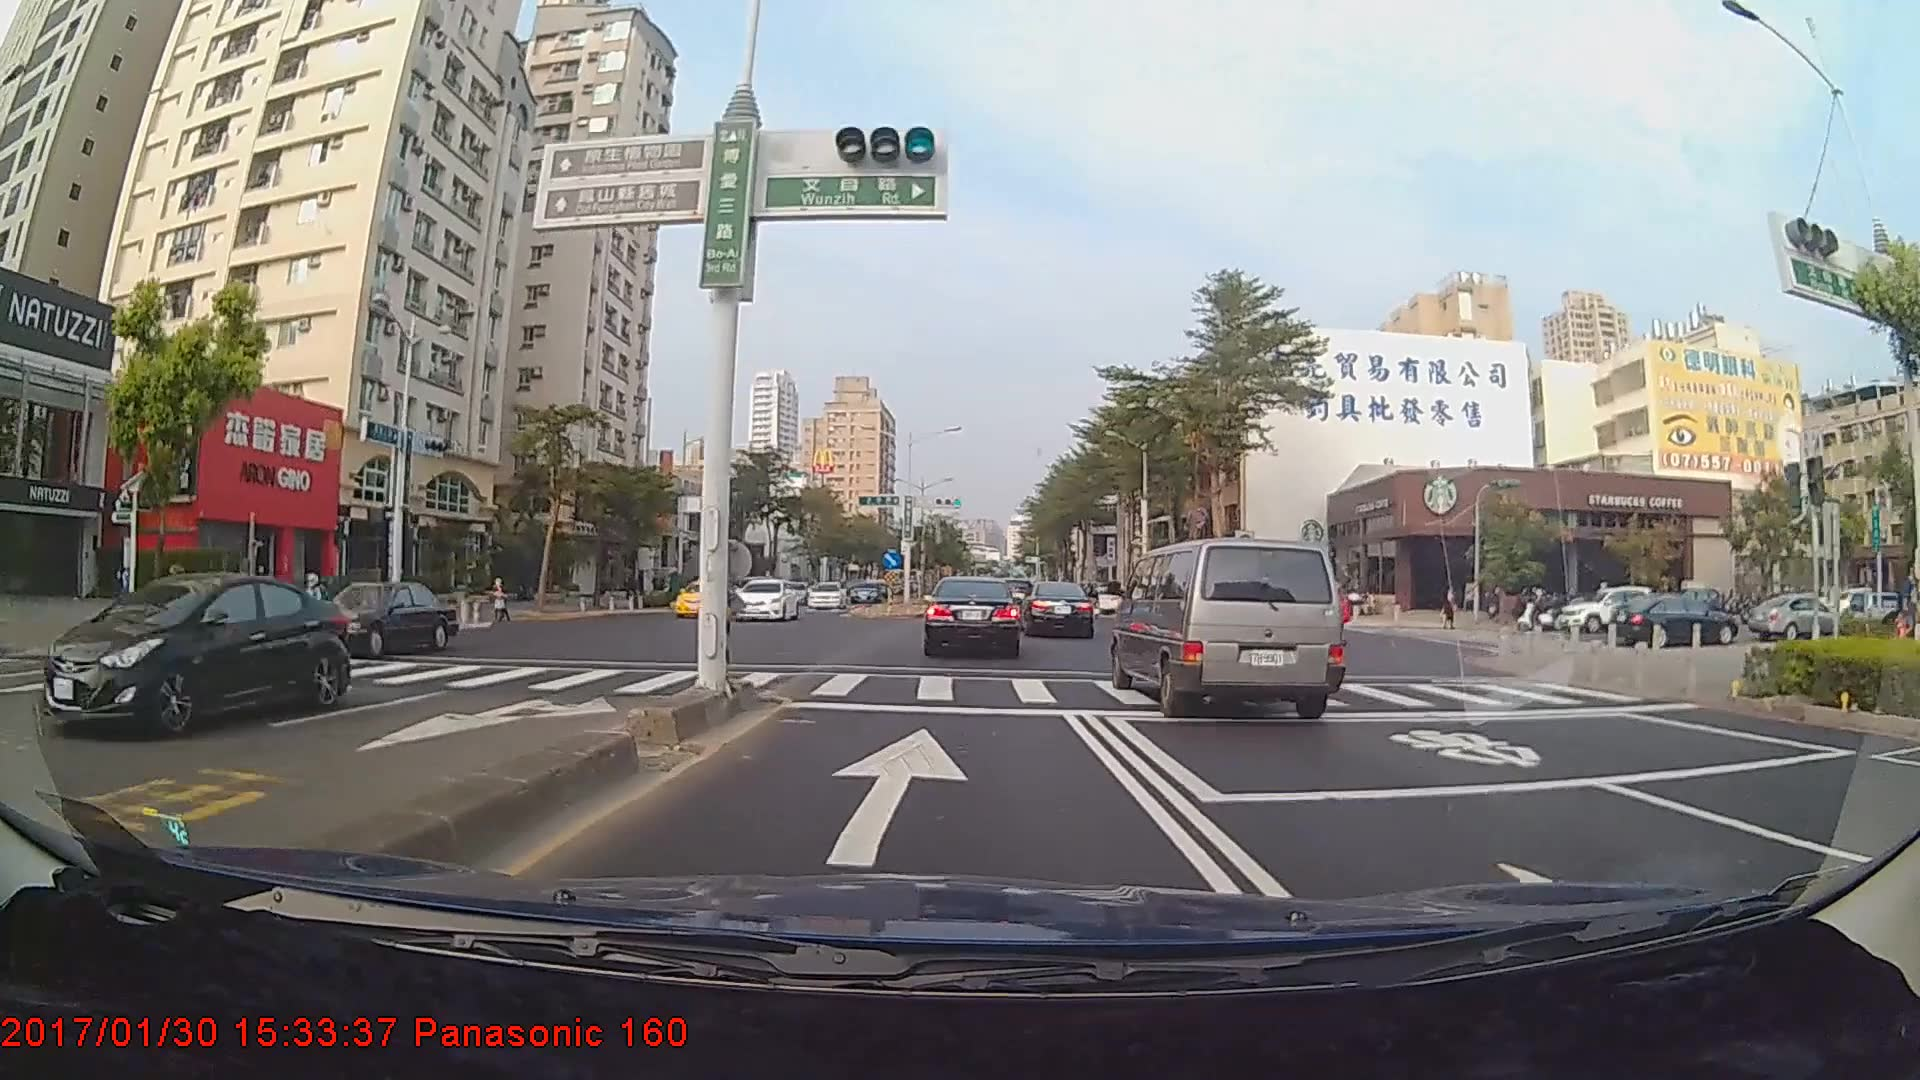pedestrian: (1891, 562, 1920, 652)
rider: (138, 571, 199, 649), (1519, 584, 1565, 634)
vehicle: (41, 569, 349, 736), (1108, 534, 1349, 720), (301, 580, 457, 657), (921, 576, 1023, 658), (1624, 582, 1752, 646), (1745, 592, 1845, 642), (1021, 579, 1094, 639), (735, 576, 796, 622), (673, 577, 737, 619), (803, 581, 846, 611)
